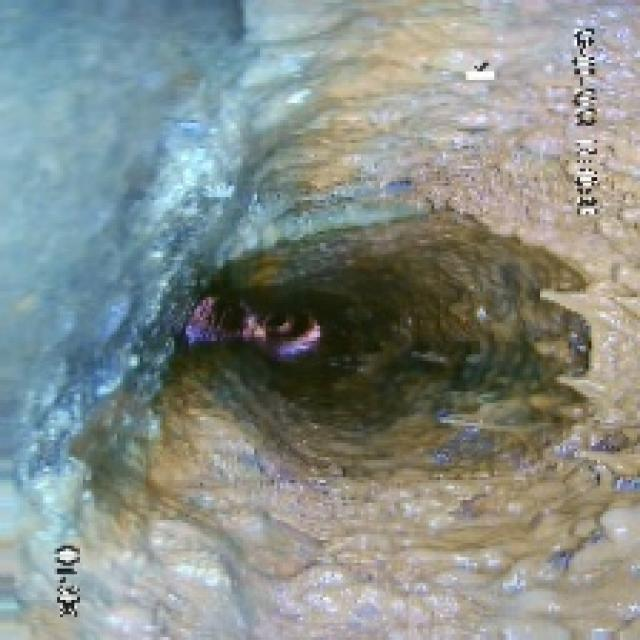encrustation: (266, 126, 634, 551)
